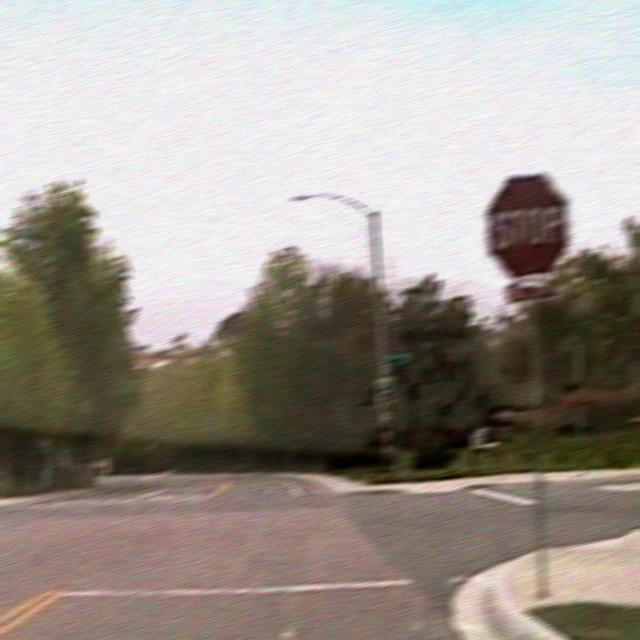stop: (485, 171, 570, 280)
